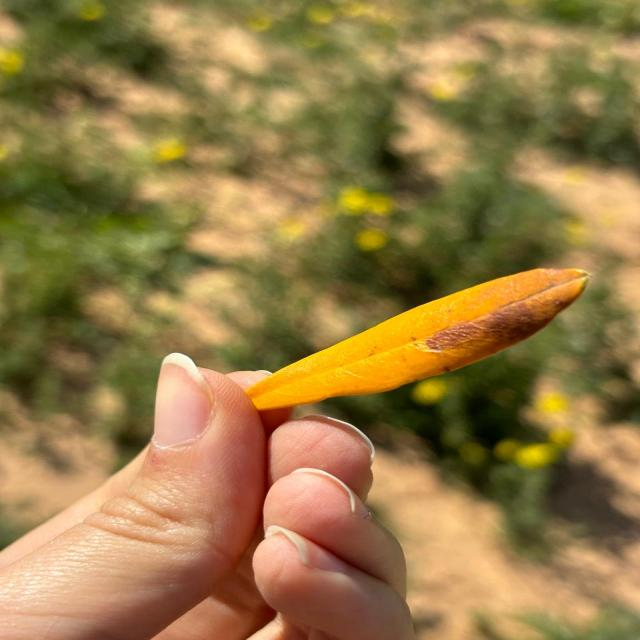Peacock Eye: (245, 268, 589, 412)
